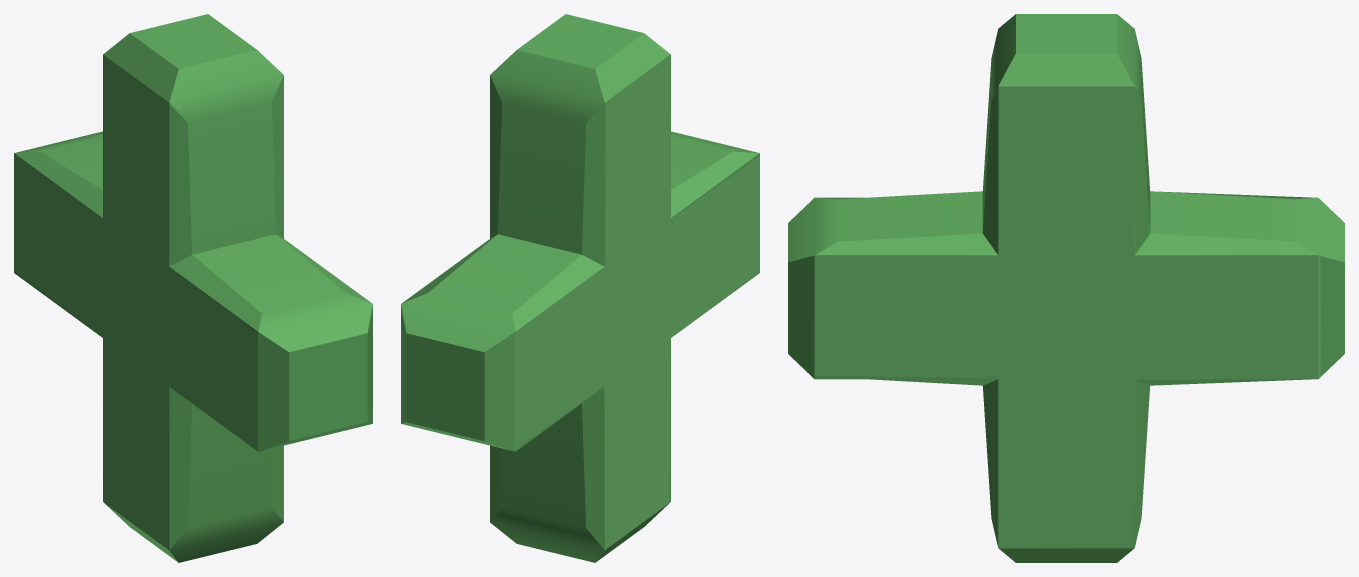
The model's file is health.fbx.
3 views of the same model, side by side, from view 1: azimuth 30°, elevation 25°; view 2: azimuth 150°, elevation 25°; view 3: azimuth 270°, elevation 25° (orthographic). The views are drawn at different scales.
Parts seen in each view (by area): view 1: pCube14; view 2: pCube14; view 3: pCube14.
Part boxes in pixels (<box>): pCube14: <box>14,14,372,562</box>; pCube14: <box>401,14,759,562</box>; pCube14: <box>788,14,1344,562</box>.
Size of the model in its own units: 11.51 by 47.41 by 46.95.
1 material, 1 textured.
